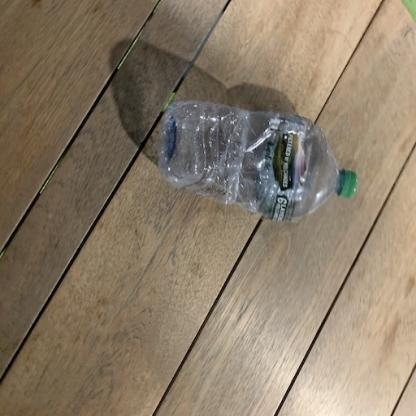trash: (152, 94, 366, 224)
